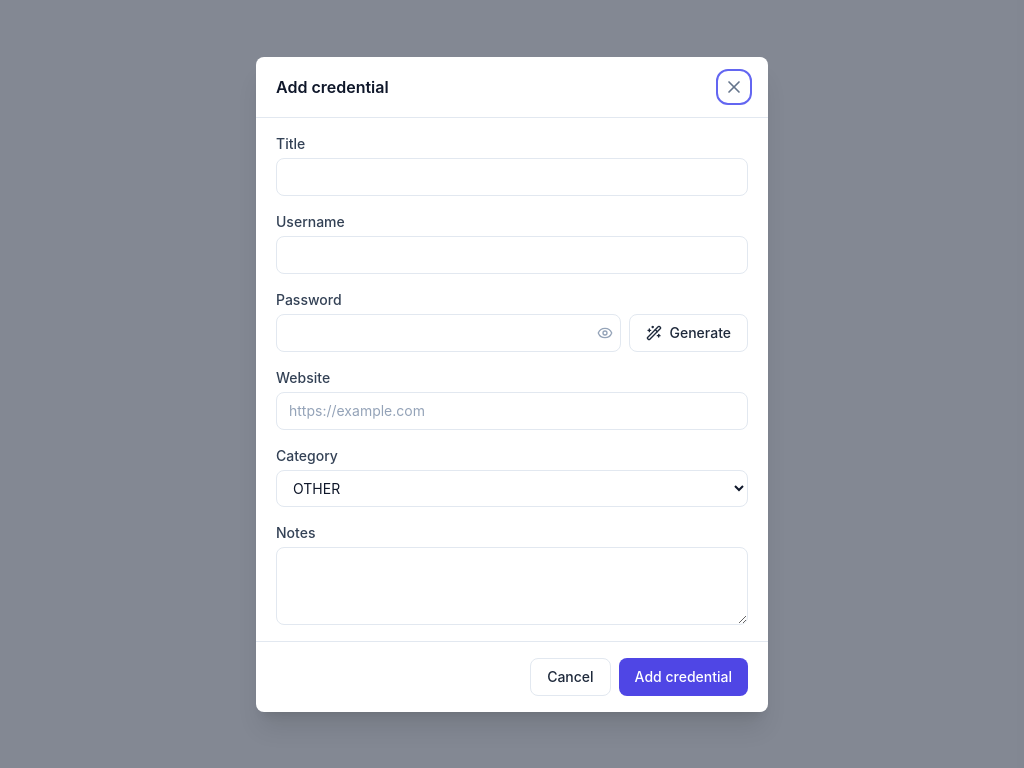
Scenario: CredentialFormModal › should_renderTheStrengthMeterFromTheMockedApi_when_typingAPassword
In the password field labelled "Password": (448, 332) [276,314,620,352], type "weakpw1"
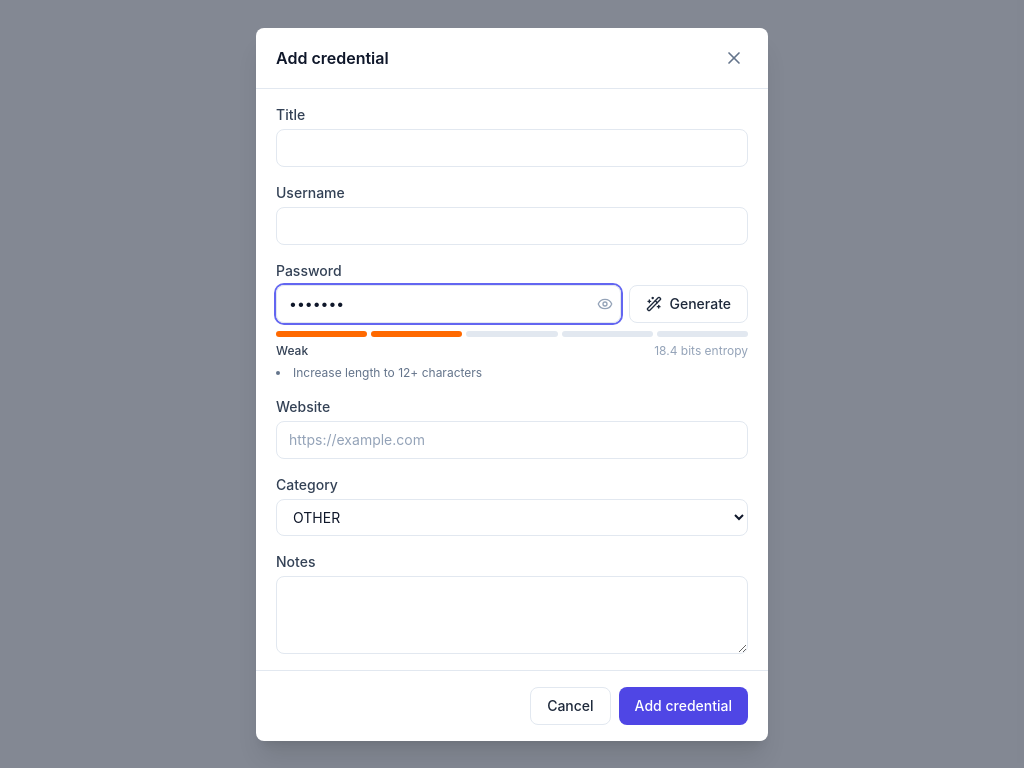
Result: the text "Weak" is shown at [276,342,308,358]
Result: the list item "Increase length to 12+ characters" is shown at [293,364,482,380]
